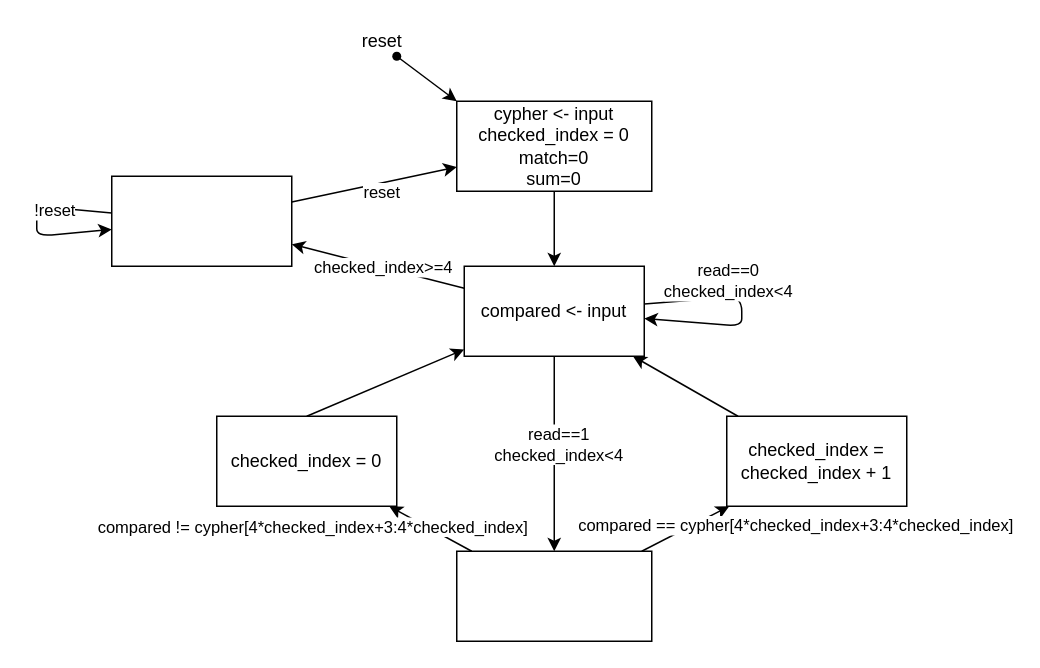
The diagram is 1040 pixels wide and 668 high, and some of its shapes have lost their labels. The box of each missing label's shape, as (x1, y1, x2, y2) in pixels:
match=1 sum_out=sum: (110, 175, 292, 266)
sum = sum + compared: (455, 550, 652, 641)
